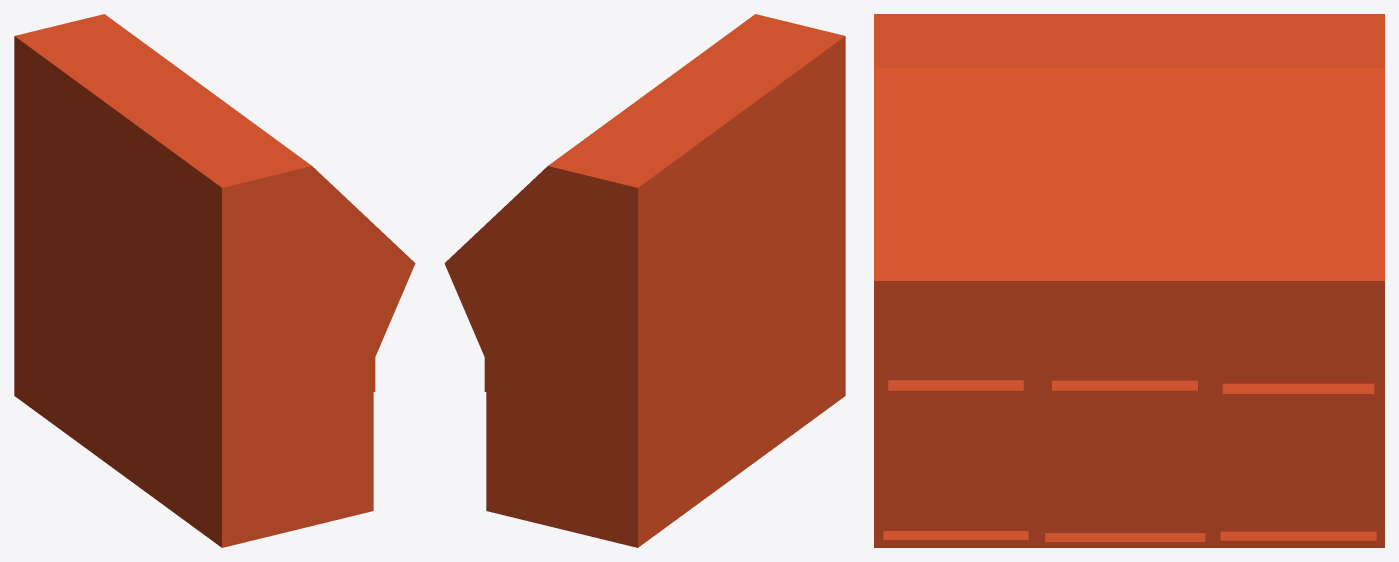
The model's file is immeuble22.fbx.
3 renders of one model, left to right at view 1: azimuth 30°, elevation 25°; view 2: azimuth 150°, elevation 25°; view 3: azimuth 270°, elevation 25°, orthographic. The views are drawn at different scales.
Visible parts, largest first — view 1: Cube; view 2: Cube; view 3: Cube.
Part boxes in pixels (<box>): Cube: <box>14,14,415,547</box>; Cube: <box>444,14,845,547</box>; Cube: <box>874,14,1384,547</box>.
Bounding box in the file's own units: 283 × 504 × 527.
